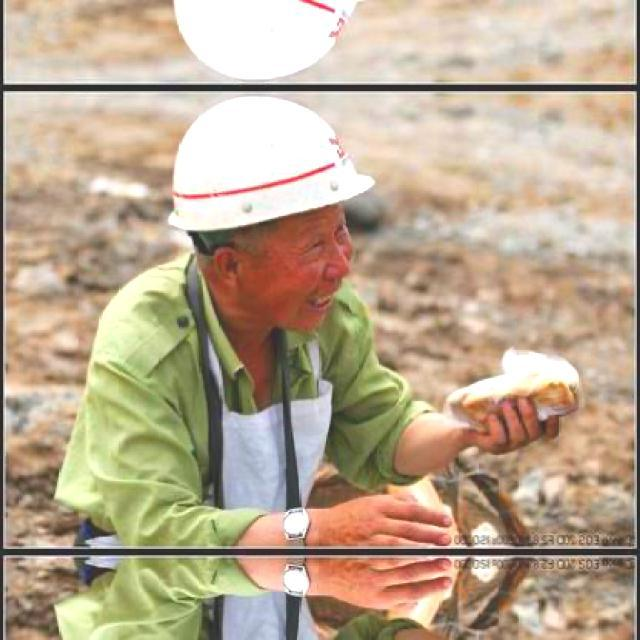safetyhelmet: (162, 85, 373, 274)
